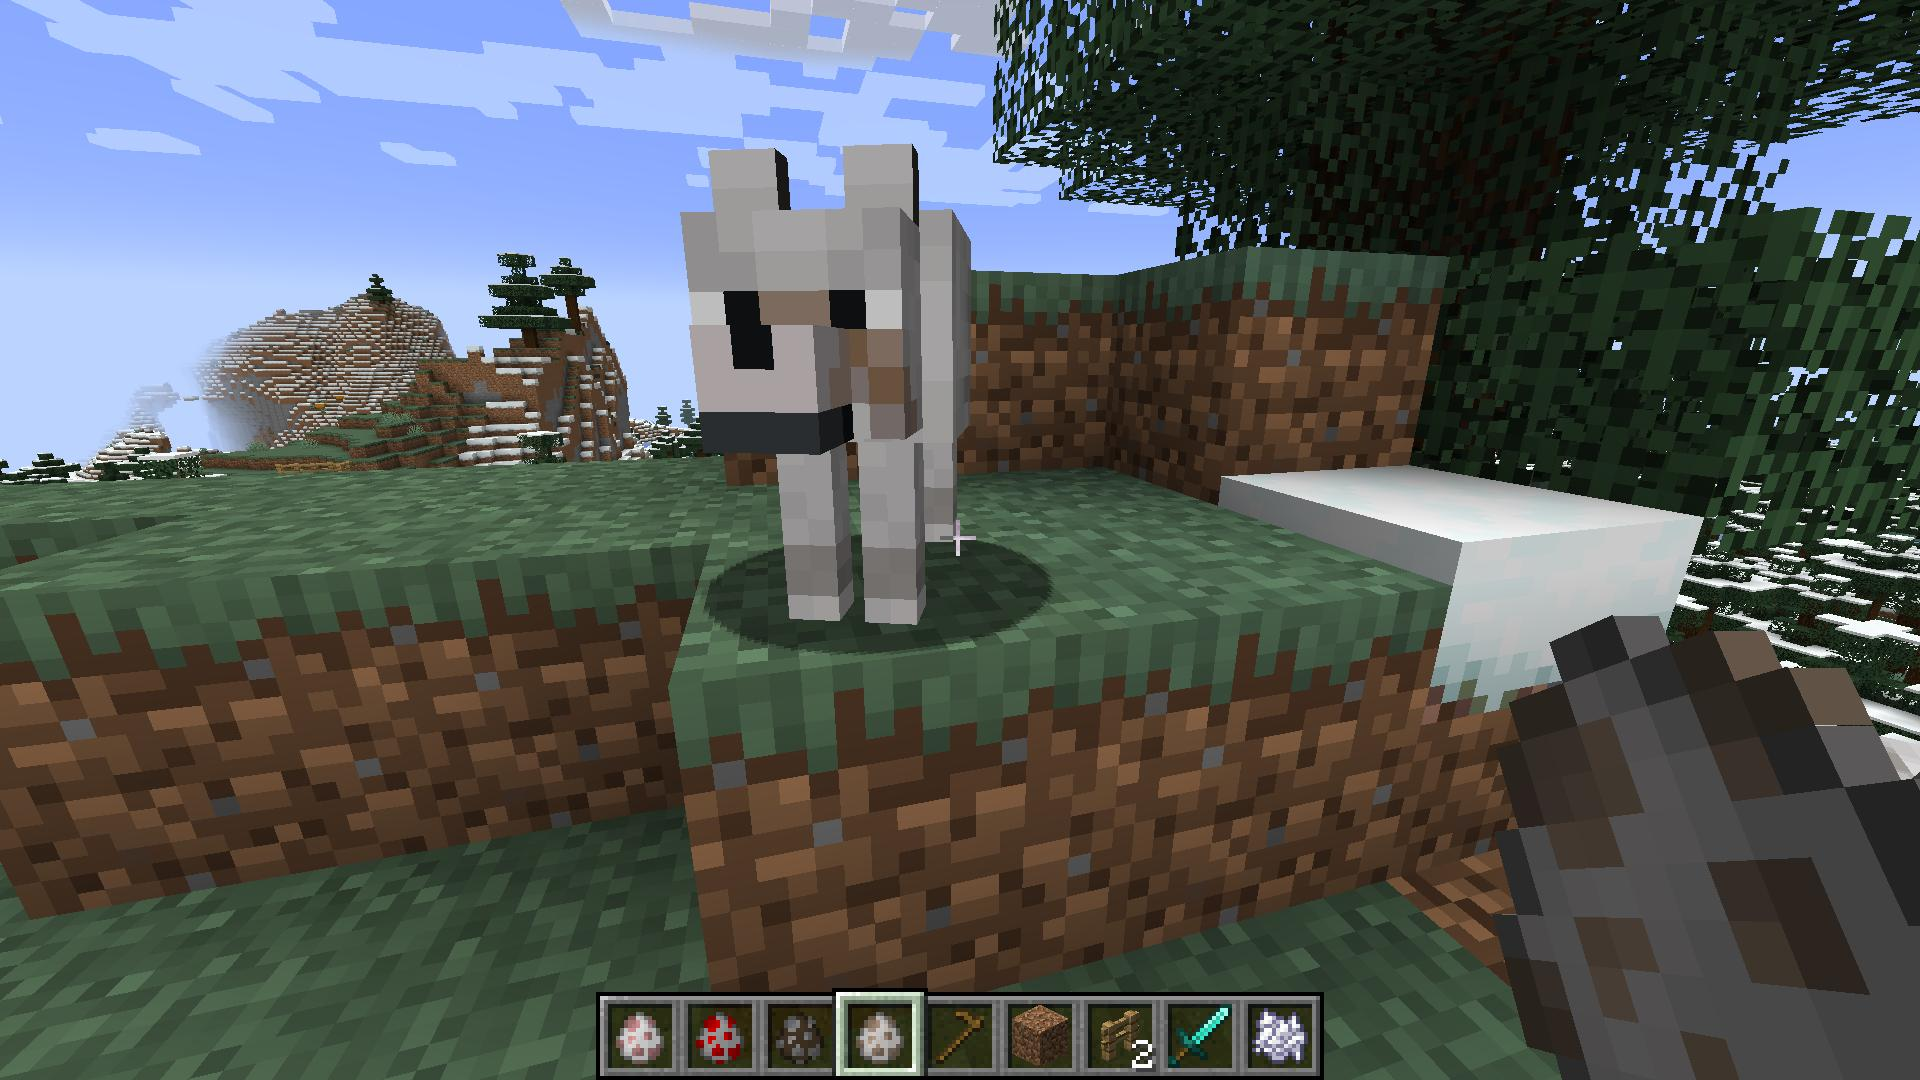wolf: (676, 137, 980, 641)
